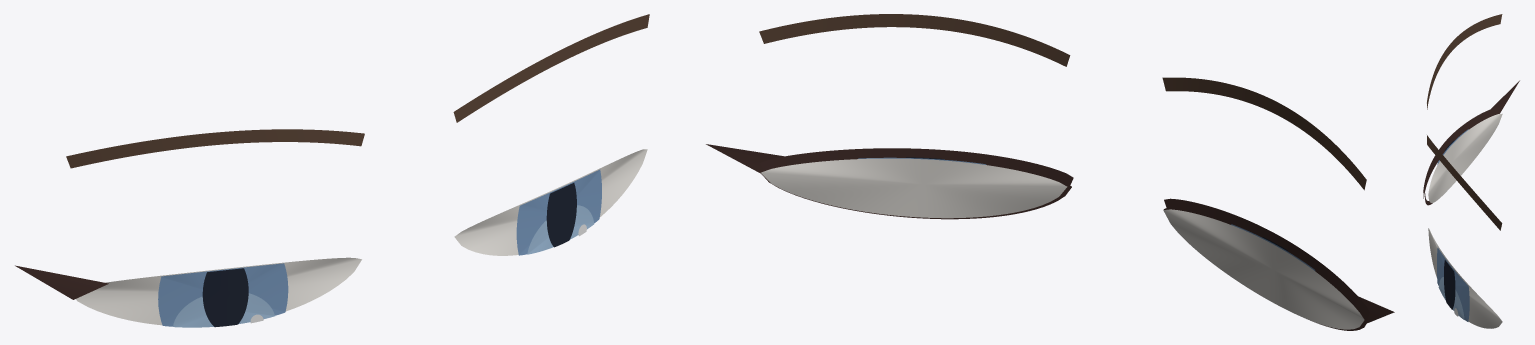
The picture shows the model from 3 angles, left to right: view 1: azimuth 30°, elevation 25°; view 2: azimuth 150°, elevation 25°; view 3: azimuth 270°, elevation 25°; orthographic projection. The views are drawn at different scales.
Visible parts, largest first — view 1: Eye_White_-1, Eyebrow_-1, Eye_White_1, Eye_Iris_-1, Eyebrow_1, Eye_Pupil_-1, Eye_Iris_1, Eye_Pupil_1, Eye_Iris_Light_-1, Eye_LashWing_-1, Eye_Iris_Light_1; view 2: Eye_White_1, Eye_White_-1, Eyebrow_1, Eye_UpperLid_1, Eyebrow_-1, Eye_UpperLid_-1, Eye_LashWing_1, Eye_LowerLid_1; view 3: Eye_White_-1, Eye_White_1, Eyebrow_-1, Eyebrow_1, Eye_UpperLid_-1, Eye_Iris_1, Eye_Pupil_1, Eye_Iris_Light_1, Eye_LashWing_-1.
Boxes of the visible parts, x1,y1,x2,y2 form: Eye_White_-1: [76, 257, 361, 325]; Eyebrow_-1: [66, 129, 364, 168]; Eye_White_1: [454, 149, 647, 255]; Eye_Iris_-1: [158, 263, 288, 326]; Eyebrow_1: [453, 14, 649, 122]; Eye_Pupil_-1: [202, 268, 248, 327]; Eye_Iris_1: [516, 169, 601, 255]; Eye_Pupil_1: [546, 183, 576, 247]; Eye_Iris_Light_-1: [173, 293, 274, 327]; Eye_LashWing_-1: [15, 265, 108, 299]; Eye_Iris_Light_1: [527, 205, 593, 254]; Eye_White_1: [761, 158, 1067, 218]; Eye_White_-1: [1163, 209, 1364, 329]; Eyebrow_1: [759, 14, 1070, 66]; Eye_UpperLid_1: [760, 148, 1073, 185]; Eyebrow_-1: [1162, 77, 1366, 190]; Eye_UpperLid_-1: [1164, 198, 1369, 318]; Eye_LashWing_1: [706, 144, 783, 173]; Eye_LowerLid_1: [760, 169, 1071, 219]; Eye_White_-1: [1428, 113, 1502, 202]; Eye_White_1: [1428, 228, 1502, 328]; Eyebrow_-1: [1427, 14, 1502, 109]; Eyebrow_1: [1427, 135, 1502, 230]; Eye_UpperLid_-1: [1423, 107, 1499, 198]; Eye_Iris_1: [1437, 247, 1469, 321]; Eye_Pupil_1: [1444, 260, 1455, 309]; Eye_Iris_Light_1: [1438, 277, 1464, 319]; Eye_LashWing_-1: [1491, 80, 1519, 113].
Size of the model in its own units: 0.418 by 0.1185 by 0.0723.
